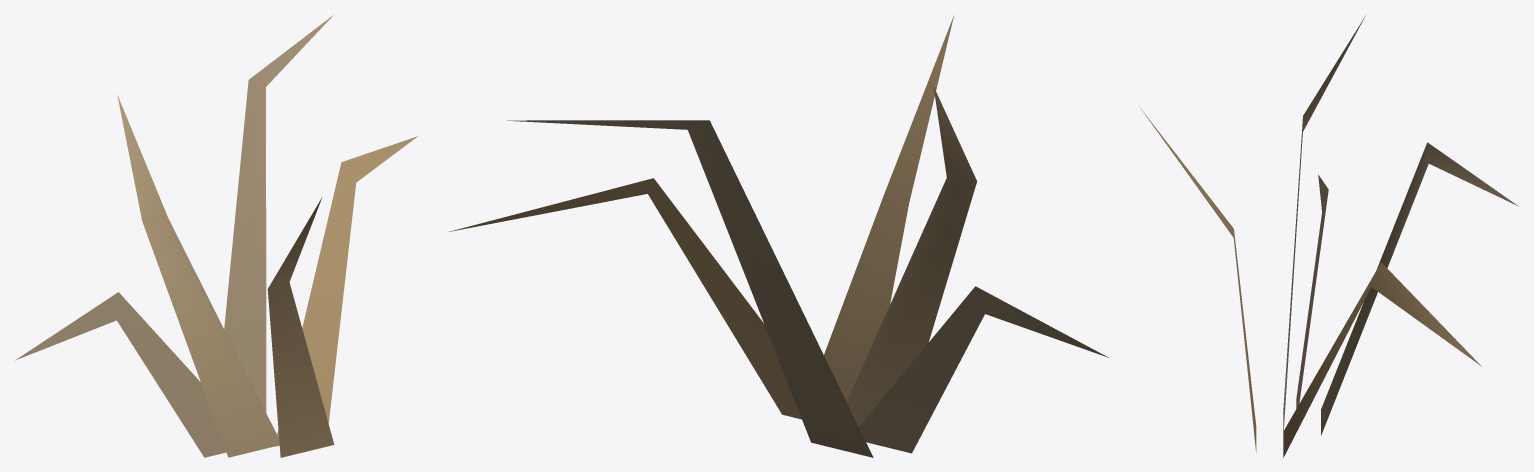
Rendered from Grass_g_TwoS_04.fbx.
3 renders of one model, left to right at view 1: azimuth 30°, elevation 25°; view 2: azimuth 150°, elevation 25°; view 3: azimuth 270°, elevation 25°, orthographic. The views are drawn at different scales.
Parts seen in each view (by area): view 1: Grass_g_TwoS_04; view 2: Grass_g_TwoS_04; view 3: Grass_g_TwoS_04.
Boxes of the visible parts, <box> form: Grass_g_TwoS_04: <box>15,15,417,457</box>; Grass_g_TwoS_04: <box>449,16,1108,457</box>; Grass_g_TwoS_04: <box>1140,15,1518,457</box>.
Bounding box in the file's own units: 67.52 × 46.81 × 45.05.
